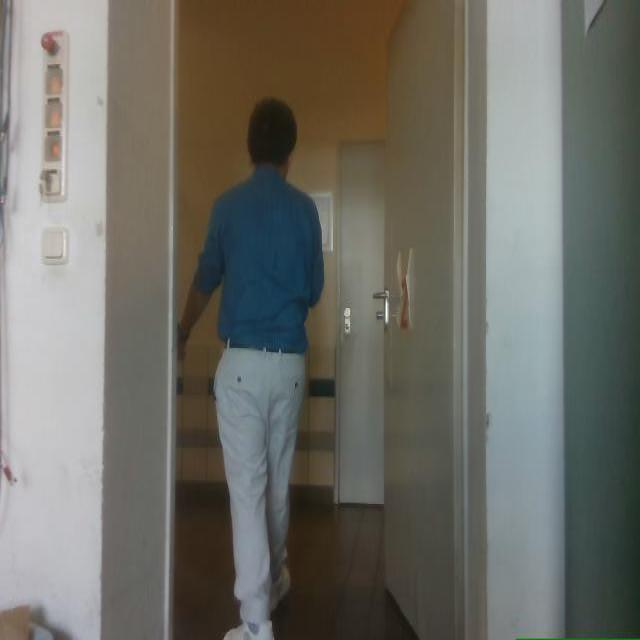humans: (179, 99, 323, 639)
objects: (376, 0, 463, 639), (0, 607, 29, 639)
